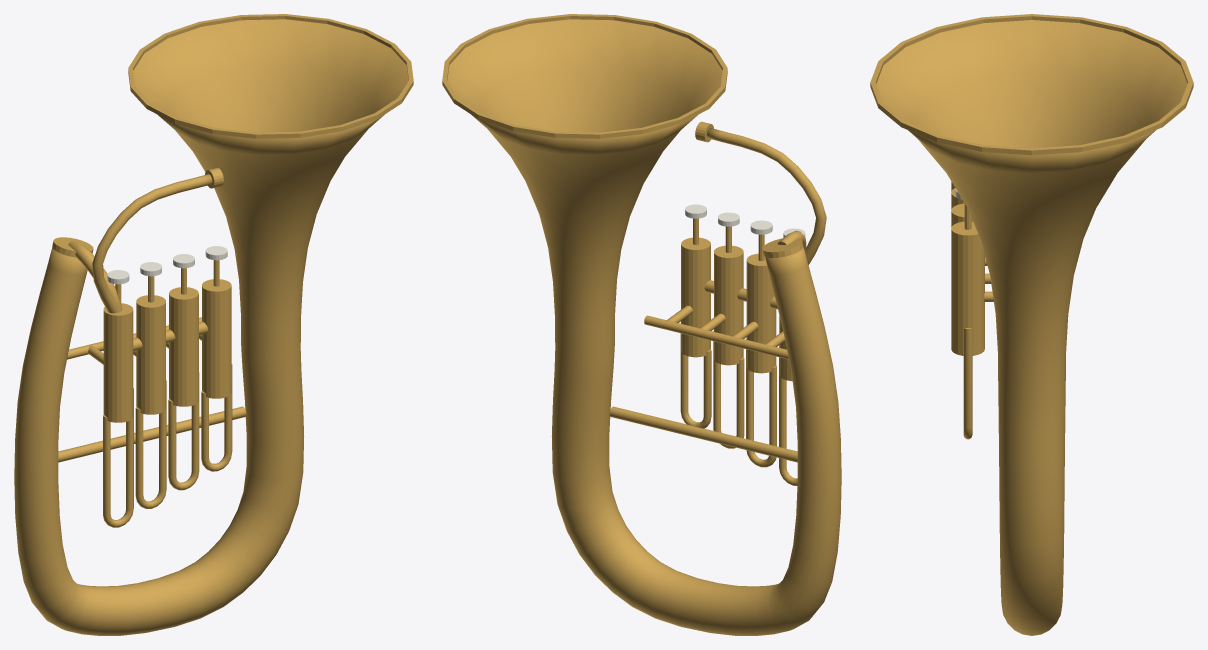
File: A-NEW-20261026-TUBA-001_LOD2_R6.glb
The picture shows the model from 3 angles, left to right: view 1: azimuth 30°, elevation 25°; view 2: azimuth 150°, elevation 25°; view 3: azimuth 270°, elevation 25°; orthographic projection. The views are drawn at different scales.
Visible parts, largest first — view 1: main bow and open bell, rolled bell lip, valve casing 0, valve casing 3, valve casing 2, valve casing 1, open lead pipe, closed tuning loop 0, closed tuning loop 1, closed tuning loop 2, bell bow brace, closed tuning loop 3 (+1 smaller); view 2: main bow and open bell, rolled bell lip, valve casing 3, valve casing 2, valve casing 1, bell bow brace, open lead pipe, closed tuning loop 1, bank support crossbar, closed tuning loop 3, closed tuning loop 2, closed tuning loop 0 (+1 smaller); view 3: main bow and open bell, rolled bell lip, valve casing 3, closed tuning loop 3.
Part boxes in pixels (x1,y1,x2,y2): main bow and open bell: [14, 19, 408, 635]; rolled bell lip: [128, 14, 413, 138]; valve casing 0: [103, 303, 133, 422]; valve casing 3: [202, 279, 231, 398]; valve casing 2: [169, 287, 198, 406]; valve casing 1: [136, 295, 165, 414]; open lead pipe: [92, 174, 212, 313]; closed tuning loop 0: [103, 388, 133, 527]; closed tuning loop 1: [135, 380, 166, 508]; closed tuning loop 2: [168, 372, 199, 490]; bell bow brace: [58, 406, 246, 462]; closed tuning loop 3: [201, 364, 232, 471]; main bow and open bell: [447, 19, 841, 635]; rolled bell lip: [442, 14, 727, 138]; valve casing 3: [681, 237, 710, 357]; valve casing 2: [714, 245, 743, 365]; valve casing 1: [746, 253, 776, 373]; bell bow brace: [609, 406, 797, 462]; open lead pipe: [706, 128, 826, 264]; closed tuning loop 1: [746, 338, 776, 467]; bank support crossbar: [644, 315, 788, 359]; closed tuning loop 3: [680, 323, 711, 428]; closed tuning loop 2: [713, 330, 744, 448]; closed tuning loop 0: [779, 347, 797, 485]; main bow and open bell: [876, 20, 1187, 635]; rolled bell lip: [870, 14, 1193, 155]; valve casing 3: [951, 221, 984, 355]; closed tuning loop 3: [963, 328, 972, 439].
Bounding box in the file's own units: 0.5537 × 0.7363 × 0.364.
